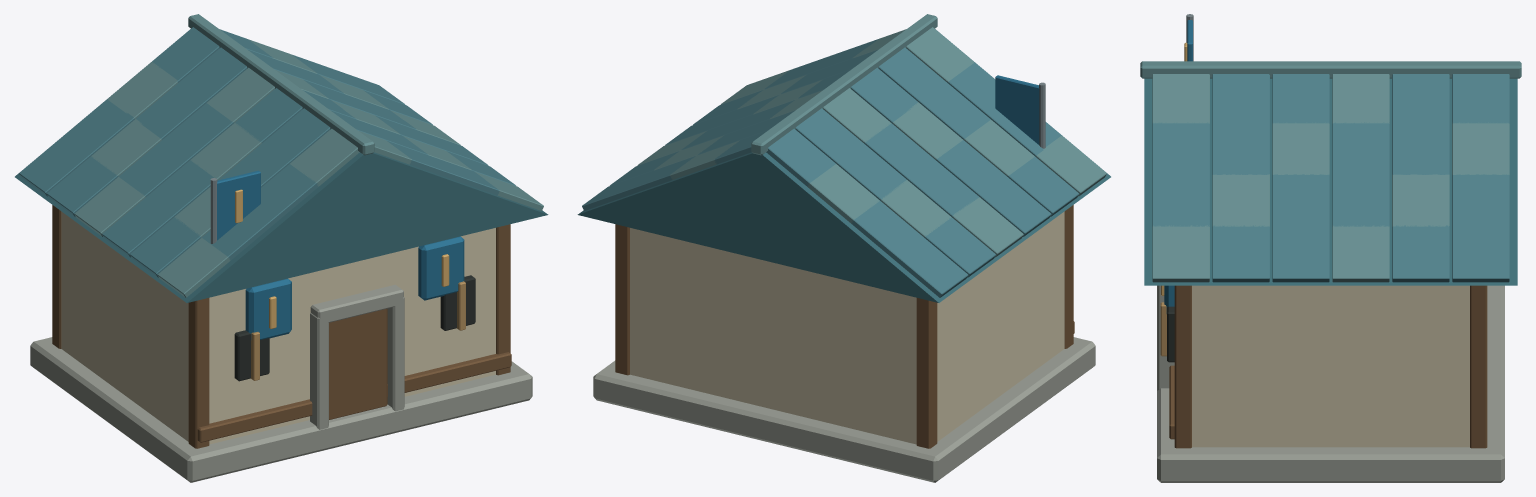
Rendered from barracks.glb.
3 views of the same model, side by side, from view 1: azimuth 30°, elevation 25°; view 2: azimuth 150°, elevation 25°; view 3: azimuth 270°, elevation 25° (orthographic). The views are drawn at different scales.
Visible parts, largest first — view 1: Plaster walls.001, Solid gabled roof.001, Foundation.001, Door.001, Front crossbeam.002, Ridge cap.001, Corner timber.004, Shield mounting.001, Shield mounting, Overlapping slate.066, Door post.002, Overlapping slate.067 (+33 smaller); view 2: Plaster walls.001, Solid gabled roof.001, Foundation.001, Ridge cap.001, Corner timber.005, Corner timber.007, Overlapping slate.071, Hanging pennant.001, Overlapping slate.065, Overlapping slate.059, Overlapping slate.066, Overlapping slate.069 (+23 smaller); view 3: Plaster walls.001, Foundation.001, Solid gabled roof.001, Ridge cap.001, Overlapping slate.092, Overlapping slate.090, Overlapping slate.095, Overlapping slate.093, Overlapping slate.094, Overlapping slate.091, Overlapping slate.089, Overlapping slate.088 (+21 smaller).
Boxes of the visible parts, <box> form: Plaster walls.001: <box>61,211,495,444</box>; Solid gabled roof.001: <box>15,29,548,302</box>; Foundation.001: <box>30,337,532,482</box>; Door.001: <box>329,308,387,419</box>; Front crossbeam.002: <box>197,352,511,442</box>; Ridge cap.001: <box>188,14,374,155</box>; Corner timber.004: <box>188,298,209,448</box>; Shield mounting.001: <box>418,236,464,300</box>; Shield mounting: <box>245,278,291,339</box>; Overlapping slate.066: <box>157,238,230,297</box>; Door post.002: <box>310,313,328,429</box>; Overlapping slate.067: <box>130,217,201,277</box>; Plaster walls.001: <box>630,211,1064,444</box>; Solid gabled roof.001: <box>577,29,1110,302</box>; Foundation.001: <box>593,337,1095,482</box>; Ridge cap.001: <box>751,14,937,155</box>; Corner timber.005: <box>916,298,937,448</box>; Corner timber.007: <box>615,224,629,375</box>; Overlapping slate.071: <box>895,237,968,297</box>; Hanging pennant.001: <box>995,75,1039,144</box>; Overlapping slate.065: <box>851,200,923,260</box>; Overlapping slate.059: <box>807,164,879,223</box>; Overlapping slate.066: <box>1036,135,1106,196</box>; Overlapping slate.069: <box>952,197,1023,257</box>; Plaster walls.001: <box>1192,285,1469,447</box>; Foundation.001: <box>1157,285,1504,482</box>; Solid gabled roof.001: <box>1144,78,1517,285</box>; Ridge cap.001: <box>1140,61,1521,78</box>; Overlapping slate.092: <box>1272,225,1329,282</box>; Overlapping slate.090: <box>1152,225,1209,282</box>; Overlapping slate.095: <box>1452,225,1509,282</box>; Overlapping slate.093: <box>1332,225,1389,282</box>; Overlapping slate.094: <box>1392,225,1449,282</box>; Overlapping slate.091: <box>1212,225,1269,282</box>; Overlapping slate.089: <box>1452,174,1509,226</box>; Overlapping slate.088: <box>1392,174,1449,226</box>.
Size of the model in its own units: 5.45 by 4.39 by 4.6.
